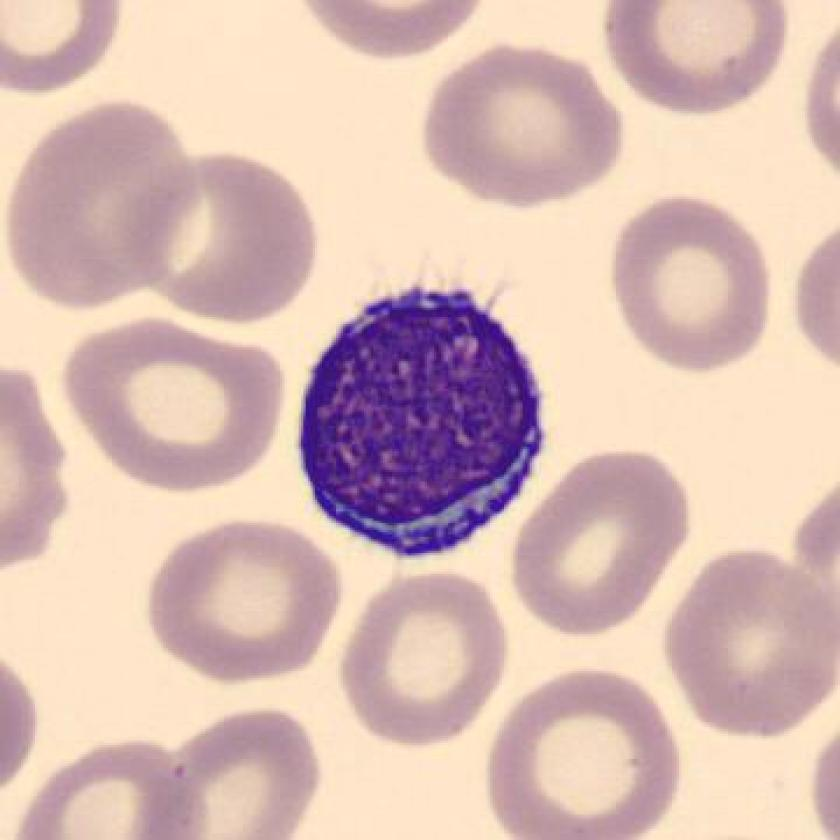lymphocyte: (286, 277, 568, 571)
